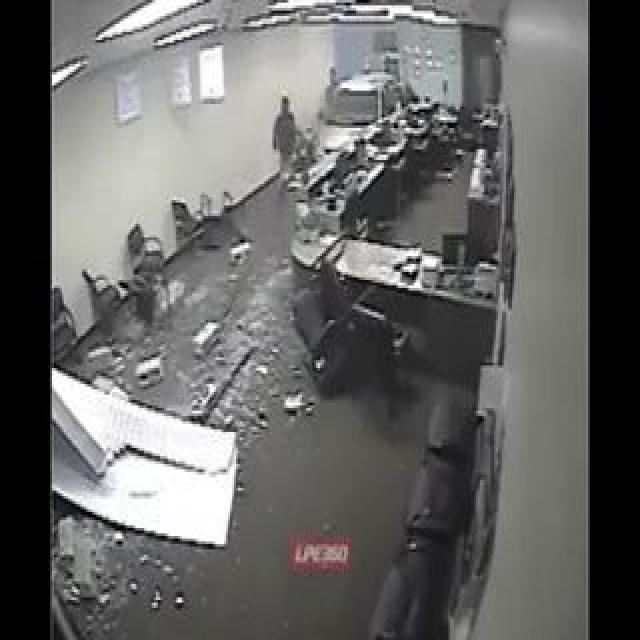thief: (255, 89, 308, 153), (324, 52, 346, 104)
